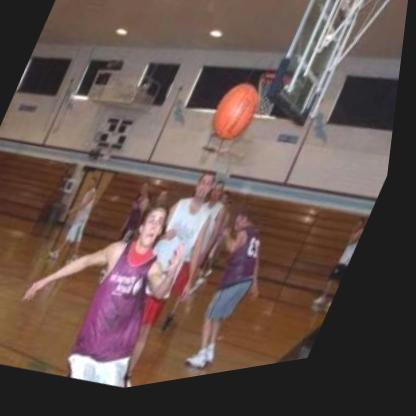basketball: (204, 78, 274, 160)
